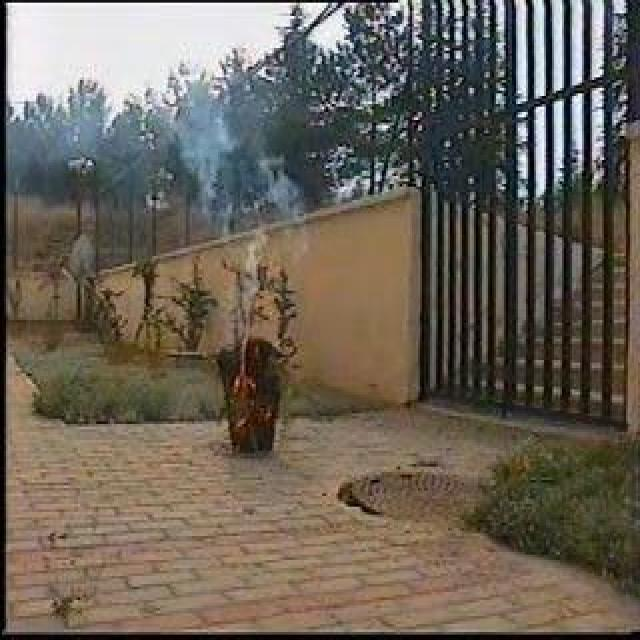fire: (229, 326, 261, 406)
smoke: (173, 106, 300, 237)
